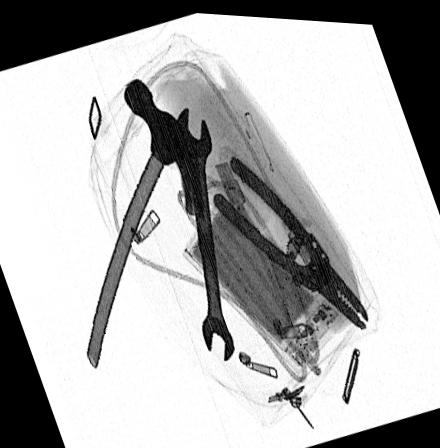Hammer: (88, 73, 206, 367)
Pliers: (211, 148, 369, 323)
Powerbank: (182, 182, 327, 349)
Wrench: (175, 102, 236, 358)
